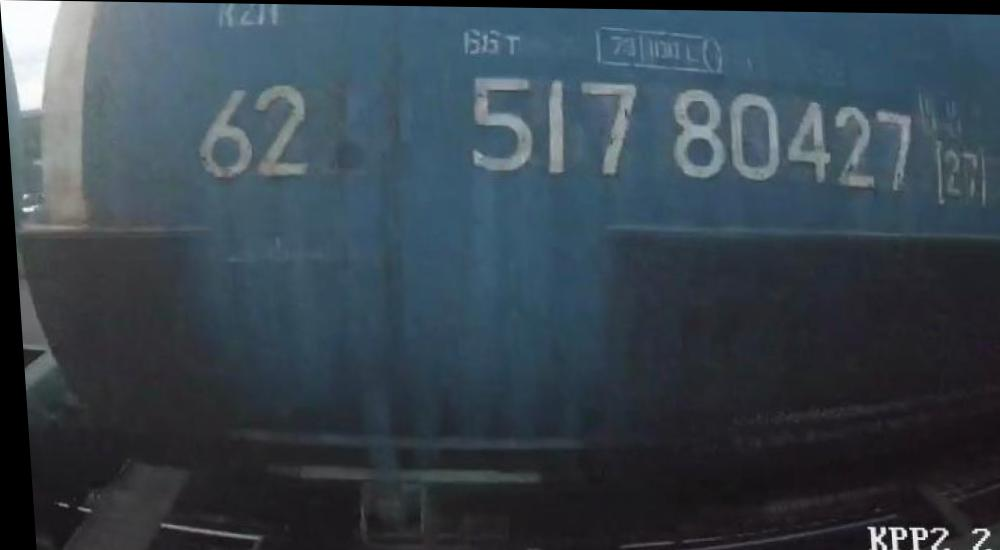Wagon-number: (457, 70, 919, 195)
